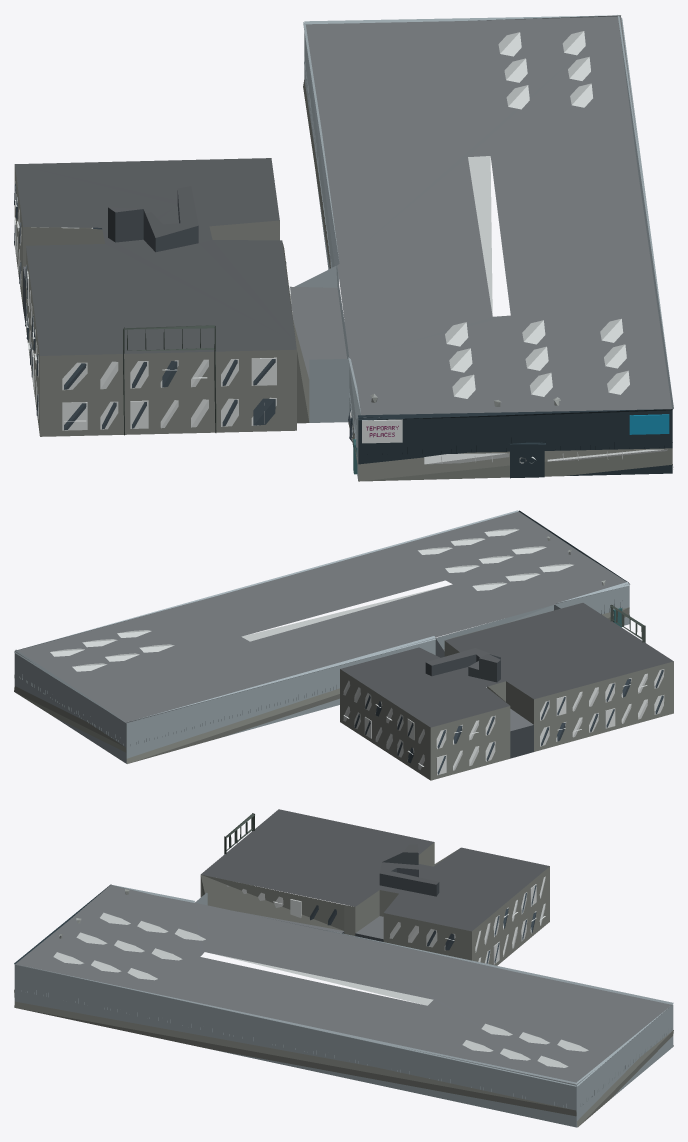
File: the-other-side.lod1.glb
3 renders of one model, top to bottom at view 1: azimuth 30°, elevation 25°; view 2: azimuth 150°, elevation 25°; view 3: azimuth 270°, elevation 25°, orthographic. The views are drawn at different scales.
Parts seen in each view (by area): view 1: the-other-side; view 2: the-other-side; view 3: the-other-side.
Boxes of the visible parts, <box> form: the-other-side: <box>14,15,673,481</box>; the-other-side: <box>14,510,673,780</box>; the-other-side: <box>14,809,673,1127</box>.
Size of the model in its own units: 75 by 10.09 by 79.18.
